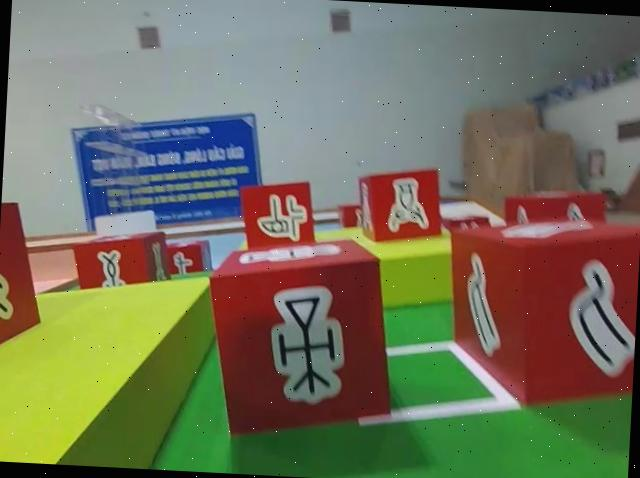R2 Real: (200, 230, 399, 446), (443, 215, 640, 413), (0, 199, 46, 368), (355, 165, 442, 247), (71, 228, 169, 298), (238, 177, 319, 258)
